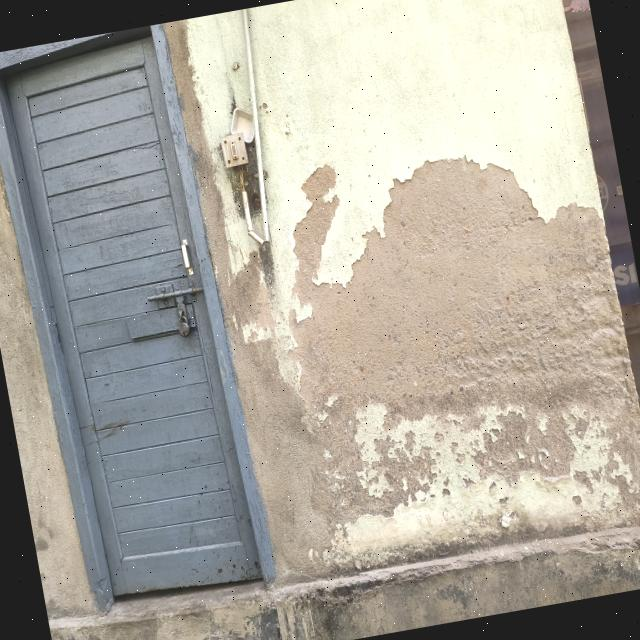peeling: (163, 19, 640, 580), (0, 165, 98, 616)
stain_mould: (226, 139, 264, 239), (258, 241, 273, 289)
